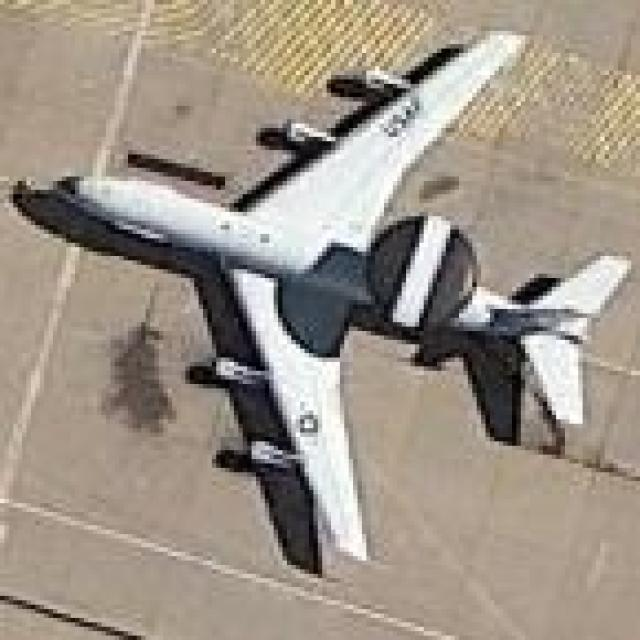E-3_TopDown: (4, 13, 632, 574)
